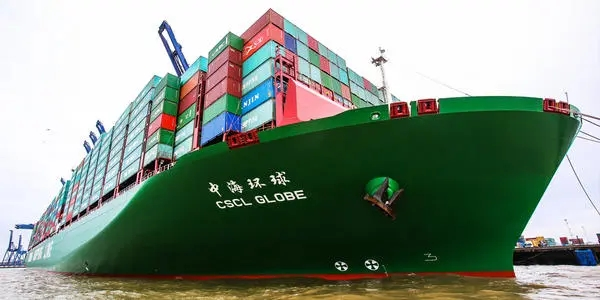Cargoship: (12, 7, 583, 275)
